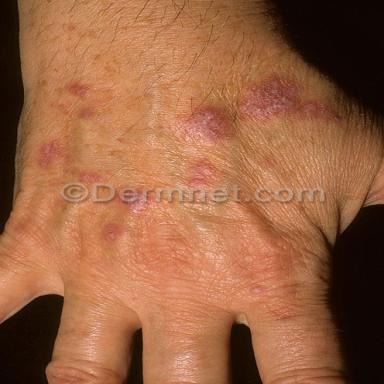lichen: (237, 76, 331, 121), (179, 108, 232, 143), (38, 139, 71, 167), (188, 161, 214, 185), (102, 223, 120, 243), (67, 83, 89, 96), (78, 172, 102, 183), (77, 107, 98, 119), (83, 180, 93, 183)
